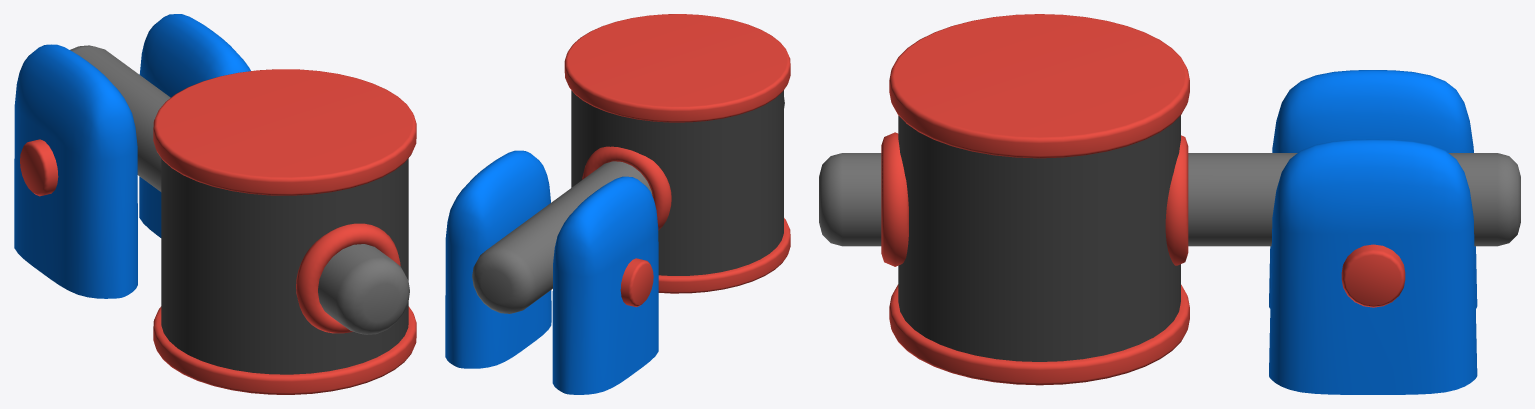
File: hammer.fbx
The picture shows the model from 3 angles, left to right: view 1: azimuth 30°, elevation 25°; view 2: azimuth 150°, elevation 25°; view 3: azimuth 270°, elevation 25°; orthographic projection. The views are drawn at different scales.
Visible parts, largest first — view 1: hammer, Hammer_base; view 2: hammer, Hammer_base; view 3: hammer, Hammer_base.
Boxes of the visible parts, <box> form: hammer: <box>70,45,416,394</box>; Hammer_base: <box>14,14,250,298</box>; hammer: <box>472,14,790,313</box>; Hammer_base: <box>445,150,658,394</box>; hammer: <box>819,14,1520,385</box>; Hammer_base: <box>1269,70,1477,394</box>.
Size of the model in its own units: 252 by 245 by 588.
